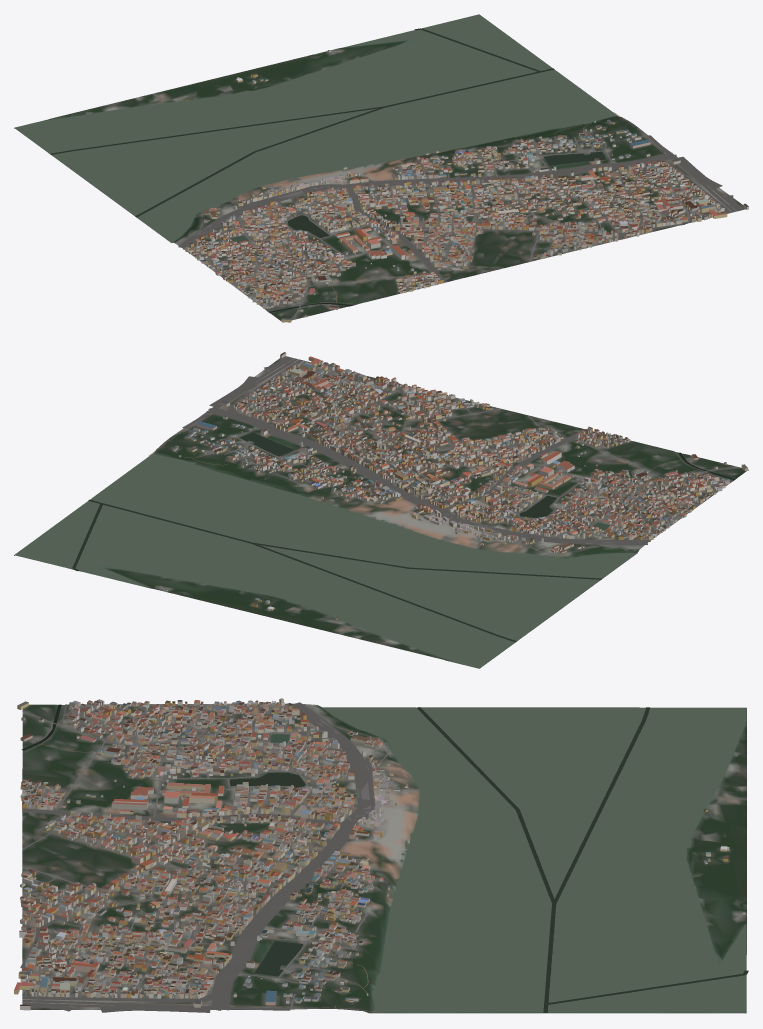
3 views of the same model, one above another, from view 1: azimuth 30°, elevation 25°; view 2: azimuth 150°, elevation 25°; view 3: azimuth 270°, elevation 25° (orthographic). The views are drawn at different scales.
Parts seen in each view (by area): view 1: water, buildings, ground, roads; view 2: water, buildings, ground, roads; view 3: water, buildings, ground, roads.
Part boxes in pixels (bbox=[...]): water: bbox=[15, 14, 617, 312]; buildings: bbox=[185, 50, 748, 322]; ground: bbox=[14, 15, 745, 322]; roads: bbox=[178, 112, 745, 319]; water: bbox=[15, 425, 735, 668]; buildings: bbox=[165, 352, 747, 619]; ground: bbox=[14, 356, 748, 668]; roads: bbox=[149, 356, 738, 554]; water: bbox=[21, 704, 748, 1012]; buildings: bbox=[14, 698, 745, 1010]; ground: bbox=[22, 703, 746, 1013]; roads: bbox=[20, 702, 393, 1012].
Size of the model in its own units: 1420 by 27.31 by 1422.
